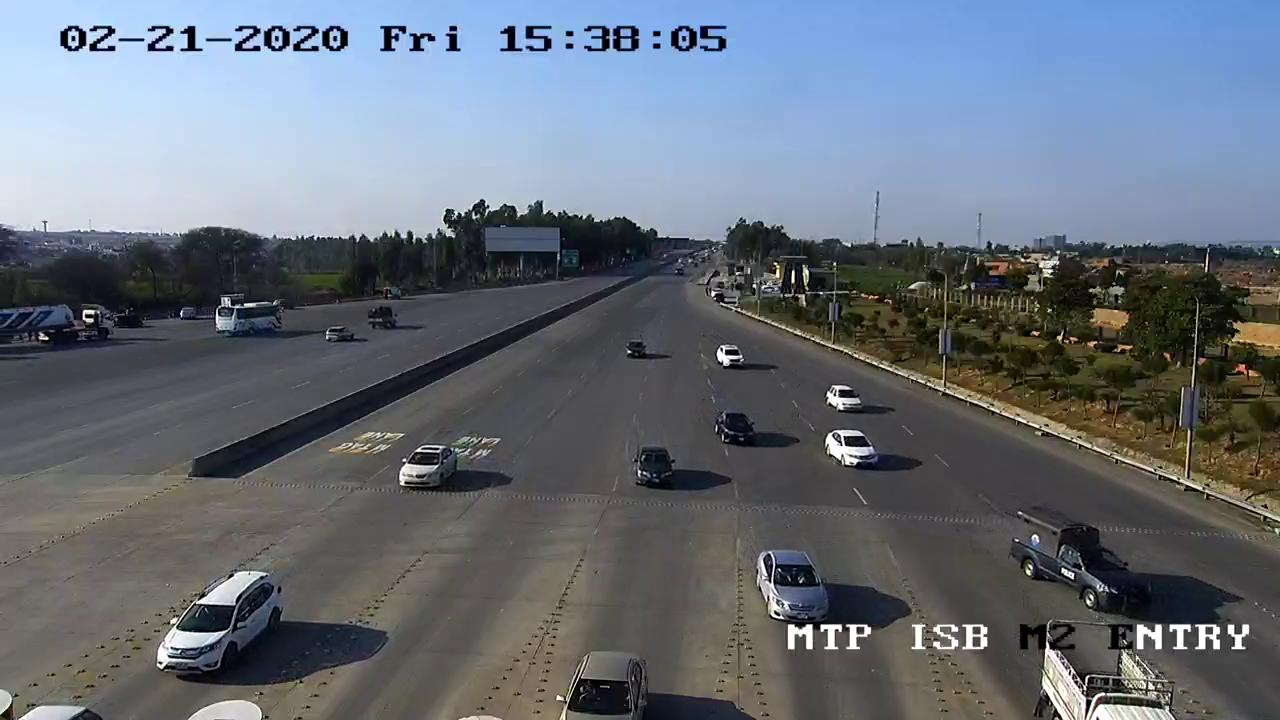f1: (142, 557, 297, 691), (1000, 497, 1165, 617), (748, 541, 840, 631), (389, 432, 469, 494), (819, 420, 891, 478), (706, 400, 765, 458), (626, 440, 680, 503), (820, 372, 874, 423)
